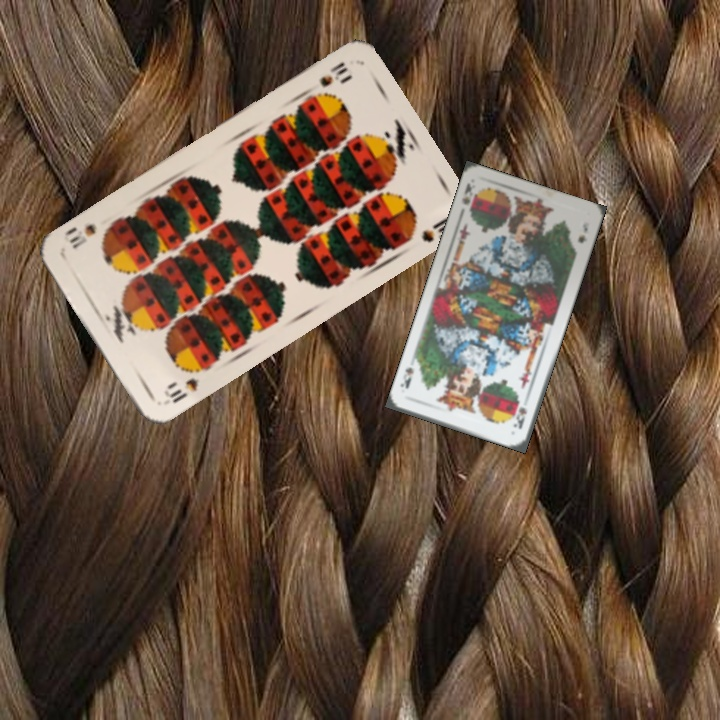S10: (159, 374, 201, 406), (315, 57, 354, 90)
SK: (509, 403, 529, 431), (458, 179, 474, 207)
